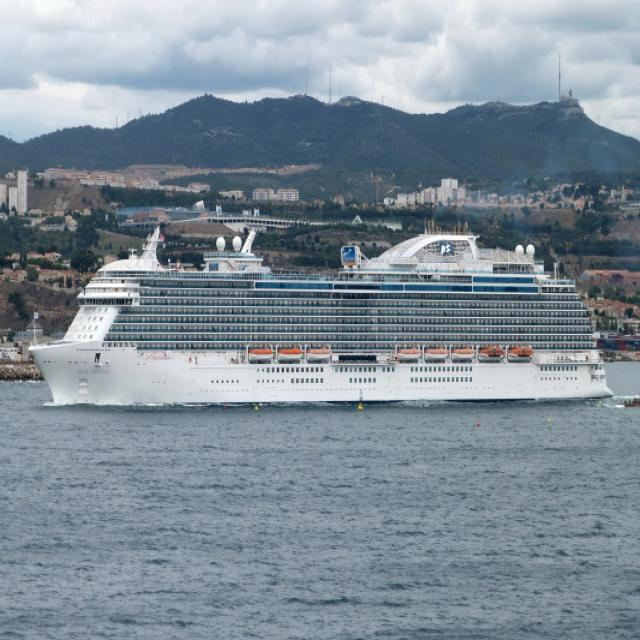cruises: (33, 216, 614, 407)
